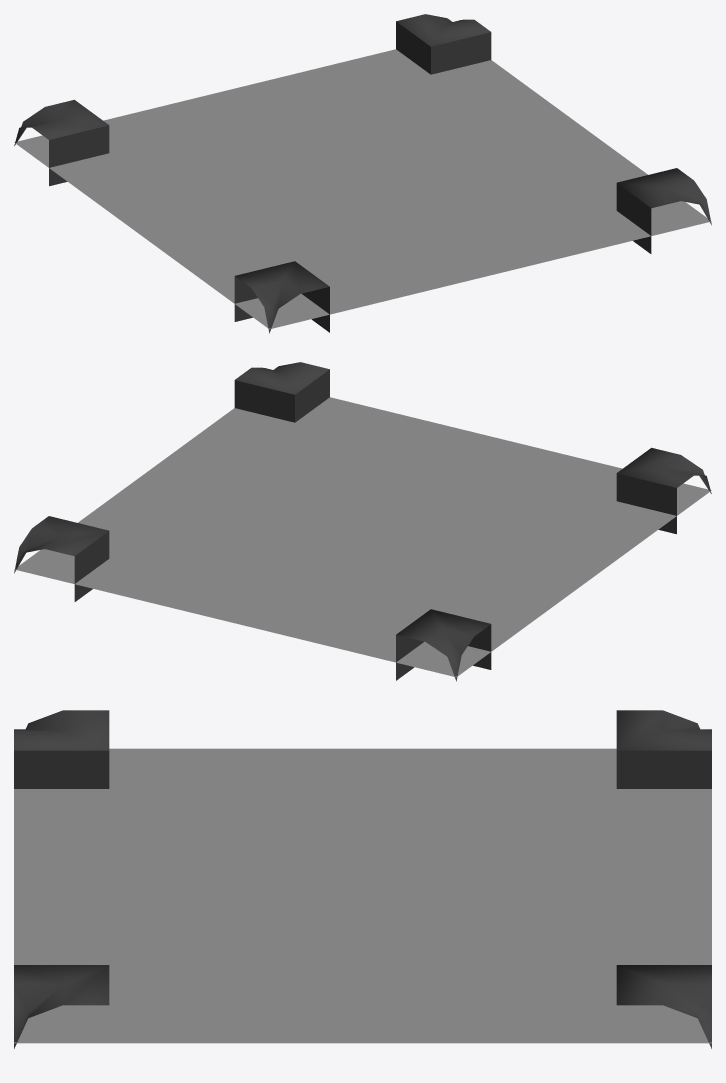
3 renders of one model, top to bottom at view 1: azimuth 30°, elevation 25°; view 2: azimuth 150°, elevation 25°; view 3: azimuth 270°, elevation 25°, orthographic. The views are drawn at different scales.
Visible parts, largest first — view 1: Tilepath B 4 Connections; view 2: Tilepath B 4 Connections; view 3: Tilepath B 4 Connections.
Part boxes in pixels (x1,y1,x2,y2): Tilepath B 4 Connections: [14, 14, 711, 333]; Tilepath B 4 Connections: [14, 362, 711, 681]; Tilepath B 4 Connections: [14, 710, 711, 1048].
Size of the model in its own units: 1 by 0.1 by 1.
Materials: 1 (1 with a texture image).
